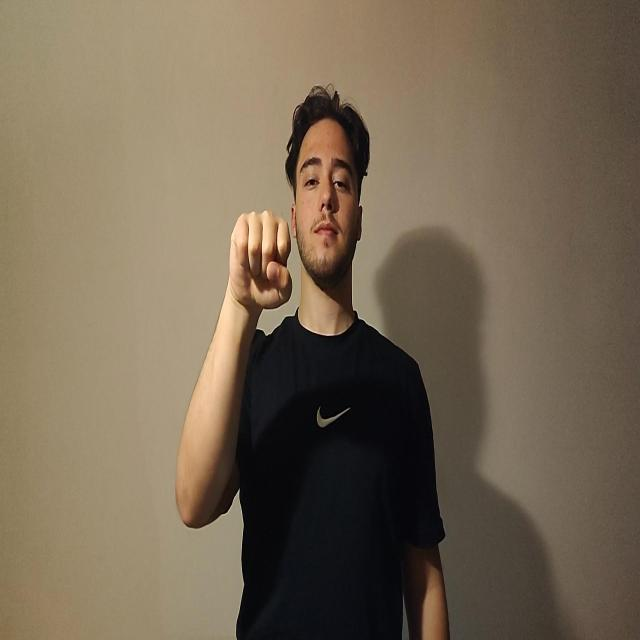yes: (228, 208, 293, 312)
